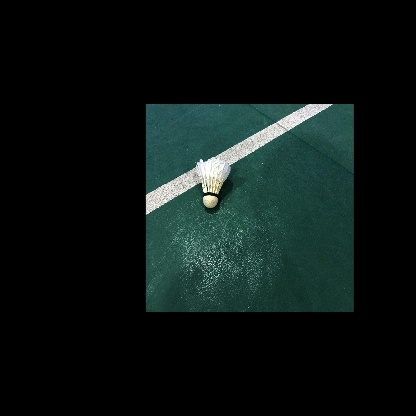ball_single: (196, 156, 231, 208)
